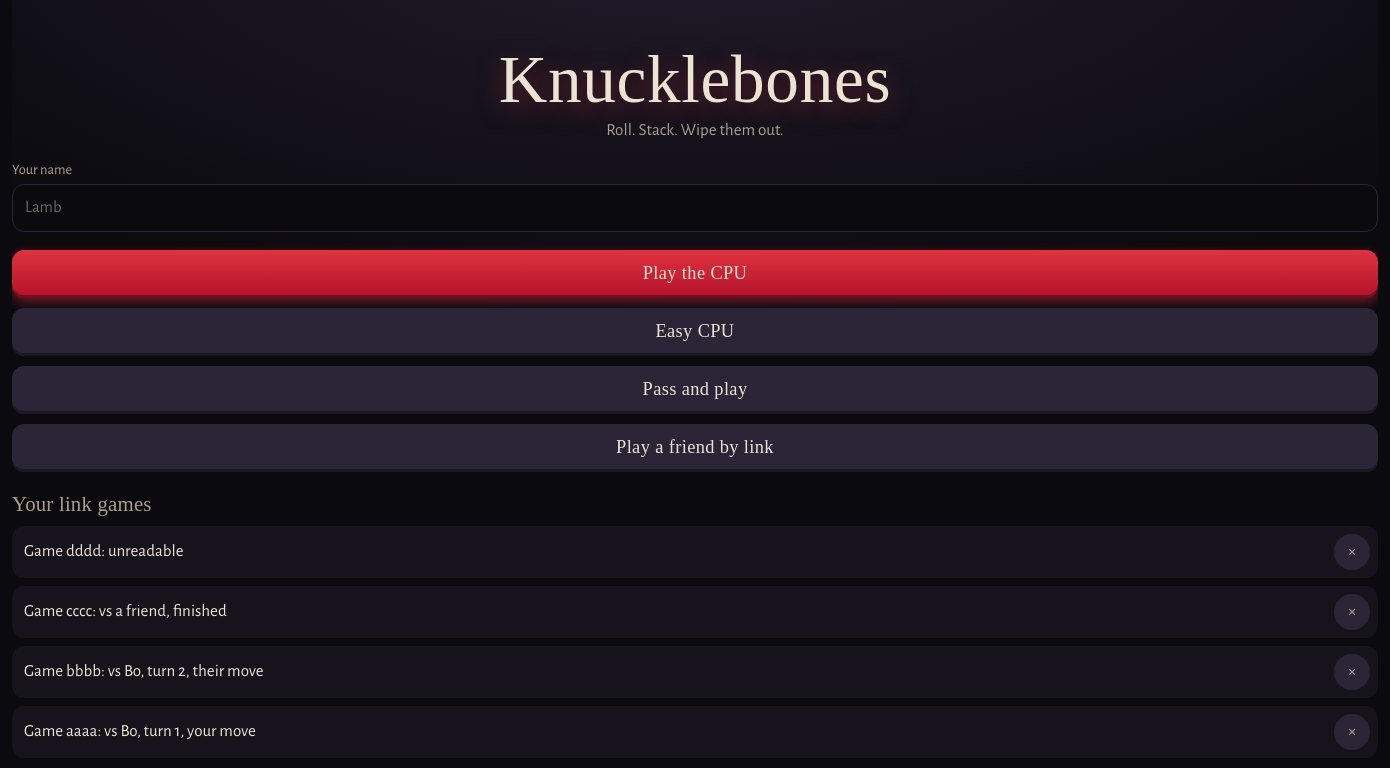
Test: HomeScreen › lists link games with whose move it is and can forget them
Expected: the link "Game aaaa: vs Bo, turn 1, your move" is shown, 24,722 -> 256,739
Expected: the link "Game bbbb: vs Bo, turn 2, their move" is shown, 24,662 -> 264,679
What coordinates should you click on to do the following:
click the button named "Forget game dddd"
I would click on:
 (1352, 552)
Its box is 1334,534 -> 1370,570.
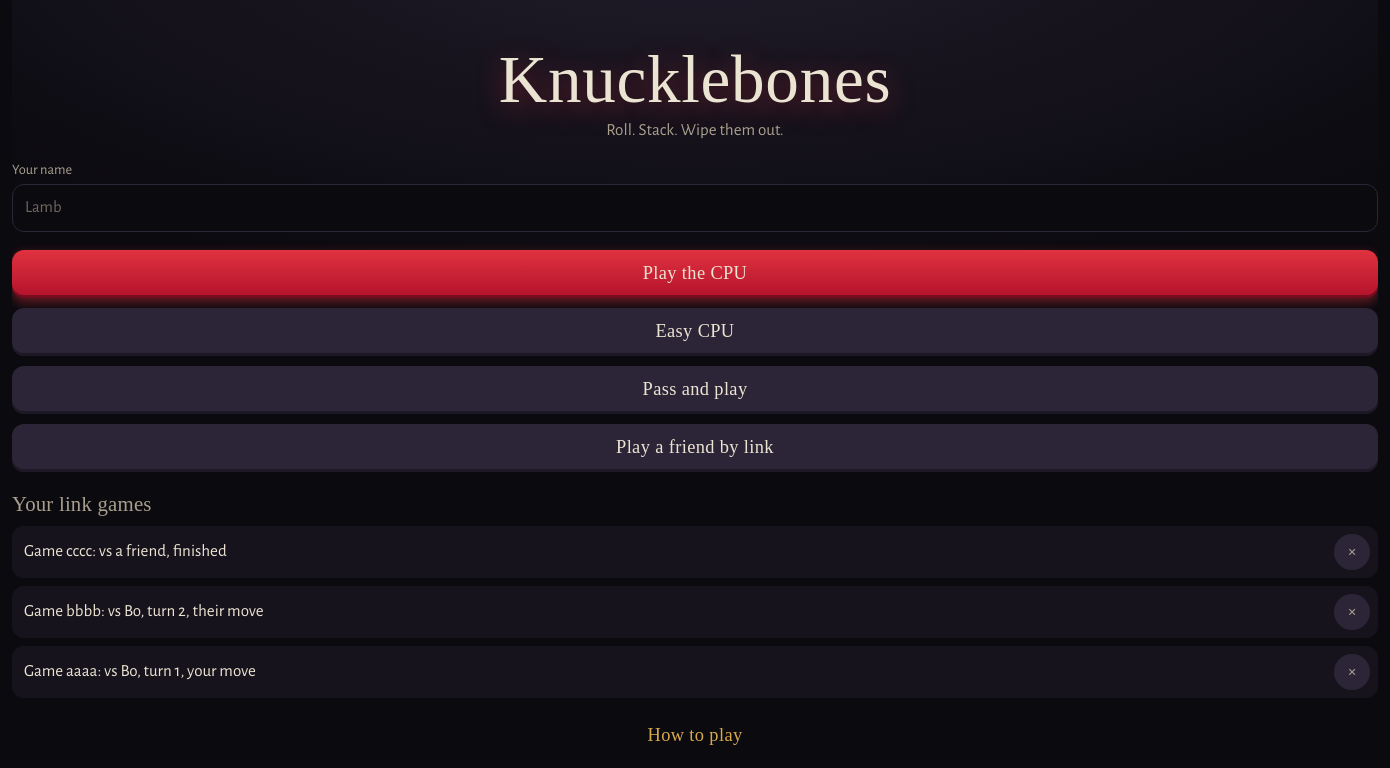
Expected: the link "dddd" is gone
